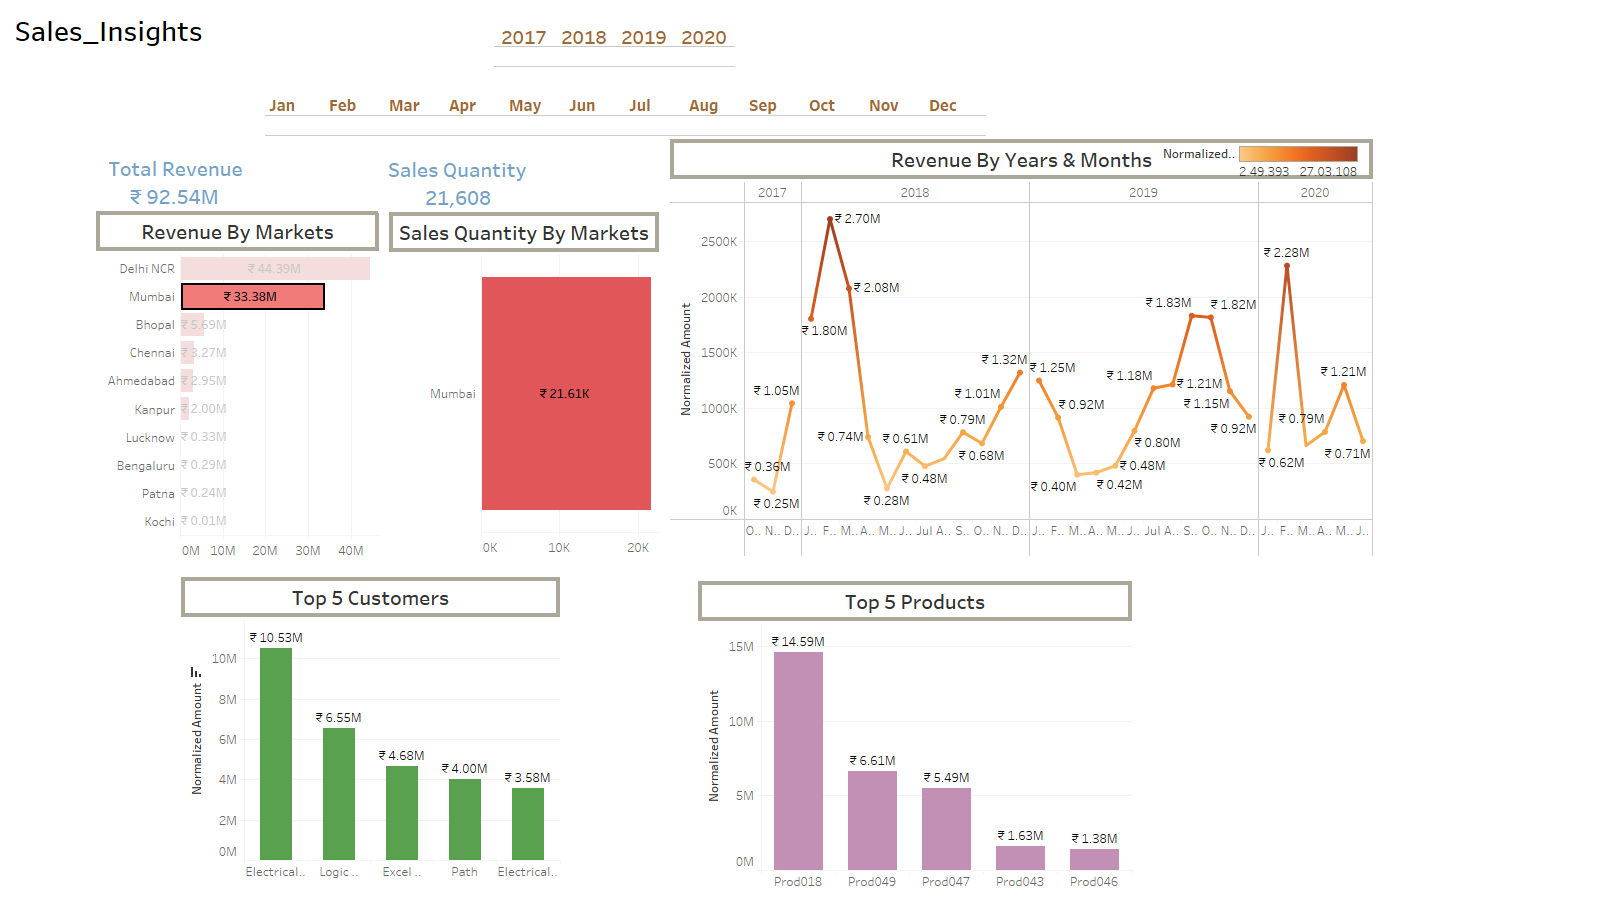

What the dashboard file says about the page in this screenshot:
{"tool":"tableau","page":{"name":"Sales_Insights","canvas":[1600,900],"ordinal":1},"visuals":[{"type":"title","box":[8,8,1584,45]},{"type":"worksheet","title":"Years","mark":"Automatic","cols":["cy_date"],"box":[494,11,252,68]},{"type":"worksheet","title":"Months","mark":"Automatic","cols":["cy_date"],"box":[264.5,80,770.1,68]},{"type":"worksheet","title":"Revenue By Years & Months","mark":"Line","rows":["Calculation_632755771746697216"],"cols":["cy_date","cy_date"],"box":[670,139,703,418]},{"type":"worksheet","title":"Revenue","mark":"Automatic","box":[94,140,177,75]},{"type":"worksheet","title":"Quantity","mark":"Automatic","box":[378,141,171,75]},{"type":"legend","title":"Revenue By Years & Months","param":"[federated.1cw4mae0o3i94r0zrr3e00johxlv].[sum:Calculation_632755771746697216:qk]","box":[1163,142,199,34]},{"type":"worksheet","title":"Revenue By Markets","mark":"Automatic","rows":["markets_name"],"cols":["Calculation_632755771746697216"],"box":[96,211,283,359]},{"type":"worksheet","title":"Sales Quantity By Markets","mark":"Automatic","rows":["markets_name"],"cols":["sales_qty"],"box":[389,212,270,353]},{"type":"worksheet","title":"Top 5 Customers","mark":"Bar","rows":["Calculation_632755771746697216"],"cols":["custmer_name"],"box":[181,577,379,317]},{"type":"worksheet","title":"Top 5 Products","mark":"Automatic","rows":["Calculation_632755771746697216"],"cols":["product_code (products_file.csv)"],"box":[698,581,434,310]}]}

Visuals, with their boxes in screenshot pixels (x1, y1, x2, y2), scaled from the page's 1600x900 canvas onto the 1600x900 screenshot:
title: 8 8 1592 53
"Years" worksheet: 494 11 746 79
"Months" worksheet: 264 80 1035 148
"Revenue By Years & Months" worksheet (Line marks): 670 139 1373 557
"Revenue" worksheet: 94 140 271 215
"Quantity" worksheet: 378 141 549 216
"Revenue By Years & Months" legend: 1163 142 1362 176
"Revenue By Markets" worksheet: 96 211 379 570
"Sales Quantity By Markets" worksheet: 389 212 659 565
"Top 5 Customers" worksheet (Bar marks): 181 577 560 894
"Top 5 Products" worksheet: 698 581 1132 891
